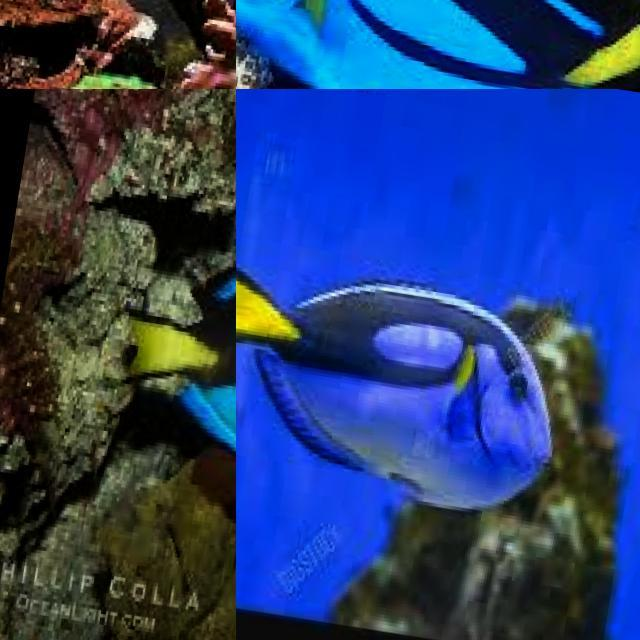BlueTang: (236, 229, 602, 549), (91, 175, 236, 541), (236, 0, 640, 89), (168, 0, 236, 89)
